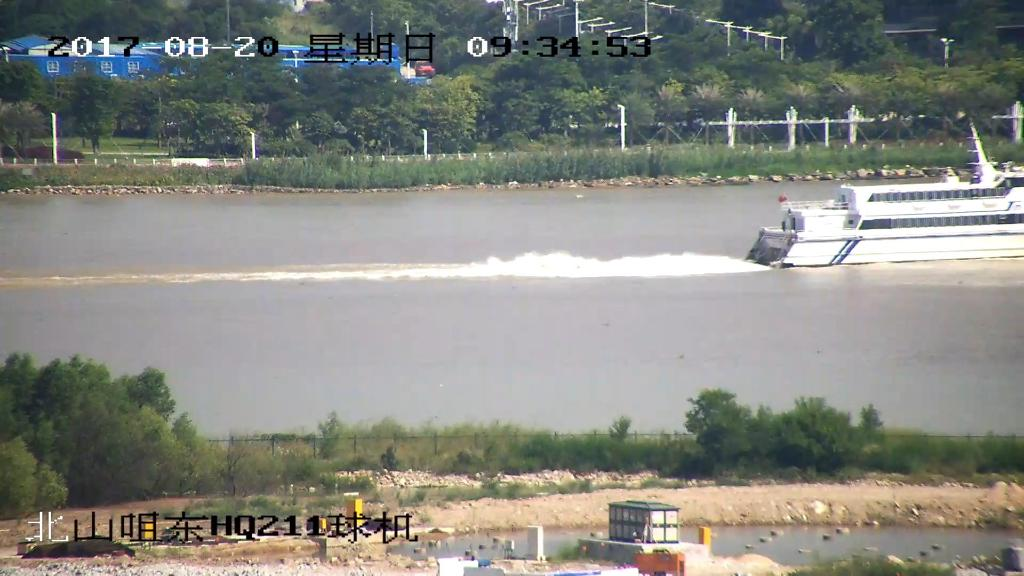PassengerShip: (740, 135, 1024, 269)
